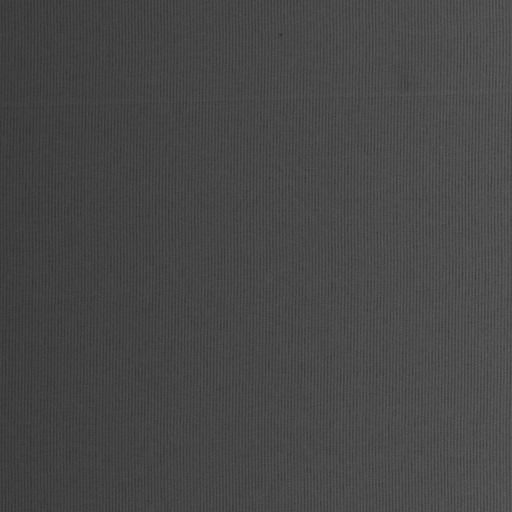defect: (1, 85, 512, 117)
